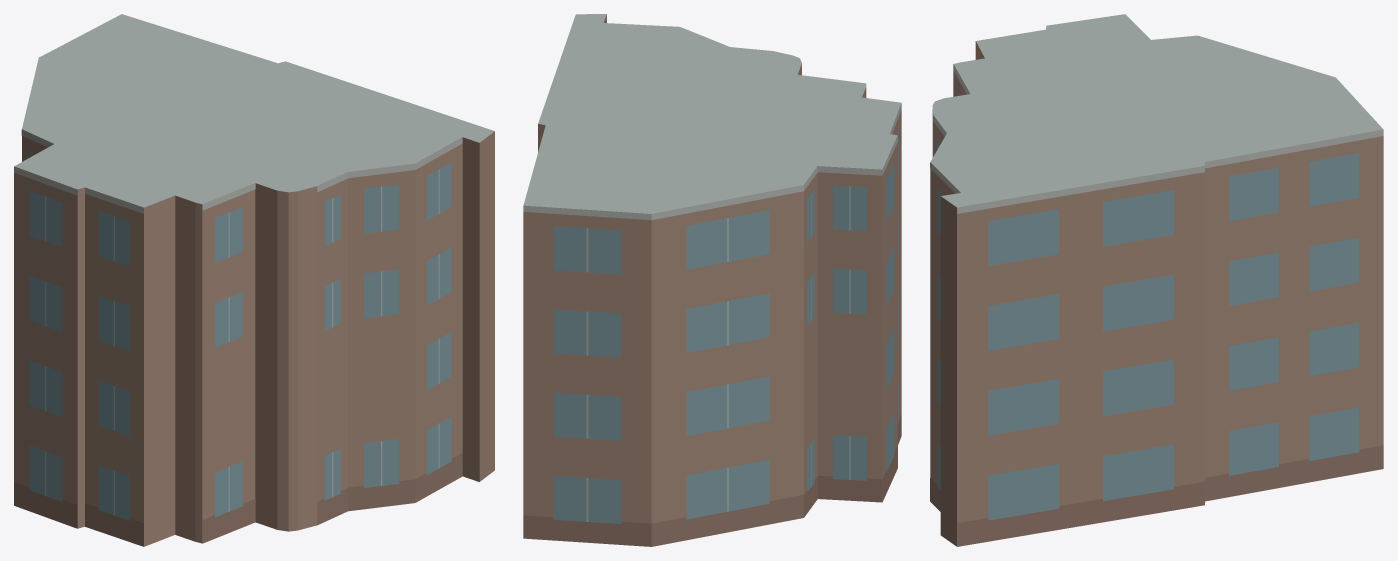
The model's file is survey-upis-33024413.glb.
3 views of the same model, side by side, from view 1: azimuth 30°, elevation 25°; view 2: azimuth 150°, elevation 25°; view 3: azimuth 270°, elevation 25° (orthographic).
Parts seen in each view (by area): view 1: survey-upis-33024413.tmp; view 2: survey-upis-33024413.tmp; view 3: survey-upis-33024413.tmp.
Boxes of the visible parts, bbox=[...] form: survey-upis-33024413.tmp: bbox=[14, 14, 494, 546]; survey-upis-33024413.tmp: bbox=[523, 14, 901, 546]; survey-upis-33024413.tmp: bbox=[930, 14, 1383, 546].
Size of the model in its own units: 15.98 by 13.05 by 15.82.
